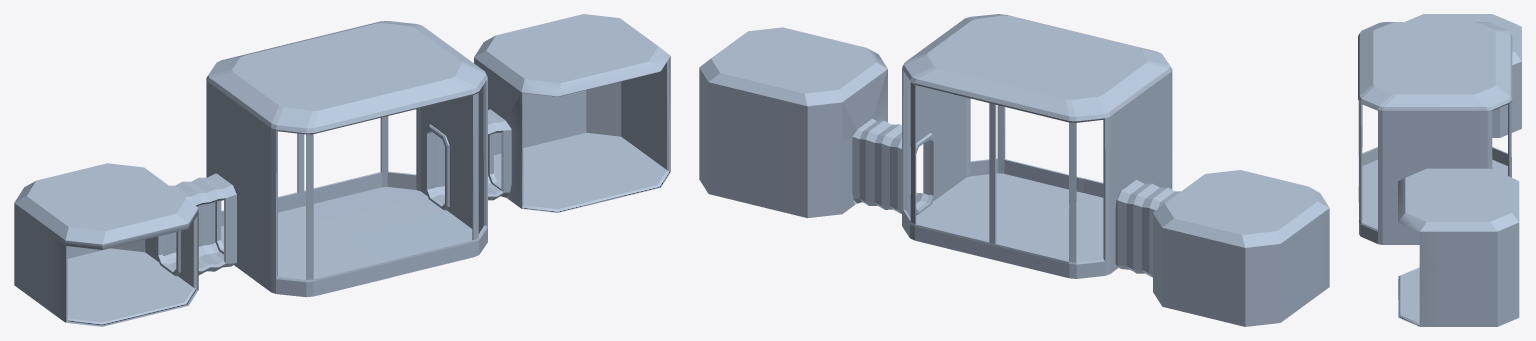
Rendered from SpaceBuilding_RemovedStick.fbx.
3 renders of one model, left to right at view 1: azimuth 30°, elevation 25°; view 2: azimuth 150°, elevation 25°; view 3: azimuth 270°, elevation 25°, orthographic. The views are drawn at different scales.
Parts seen in each view (by area): view 1: SpaceBuilding2; view 2: SpaceBuilding2; view 3: SpaceBuilding2.
Part boxes in pixels (box(x1,y1,x2,y2)): SpaceBuilding2: box(14, 14, 670, 326); SpaceBuilding2: box(699, 14, 1329, 326); SpaceBuilding2: box(1358, 14, 1521, 326).
Bounding box in the file's own units: 1155 × 324 × 330.
